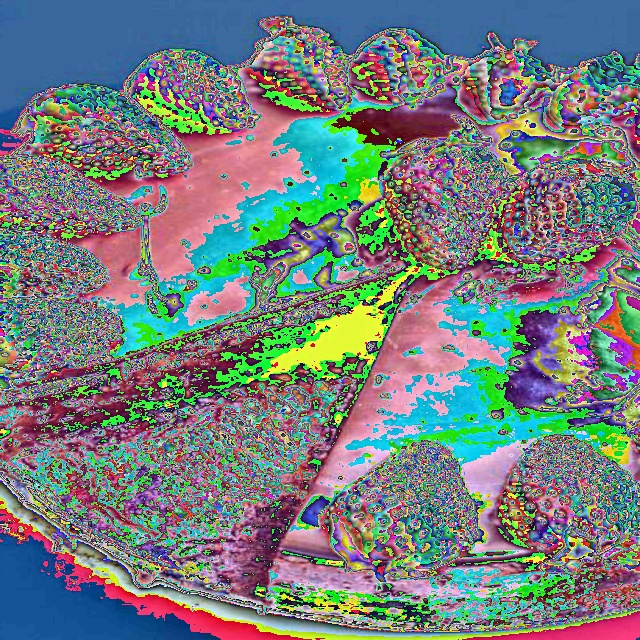background: (0, 17, 640, 631)
